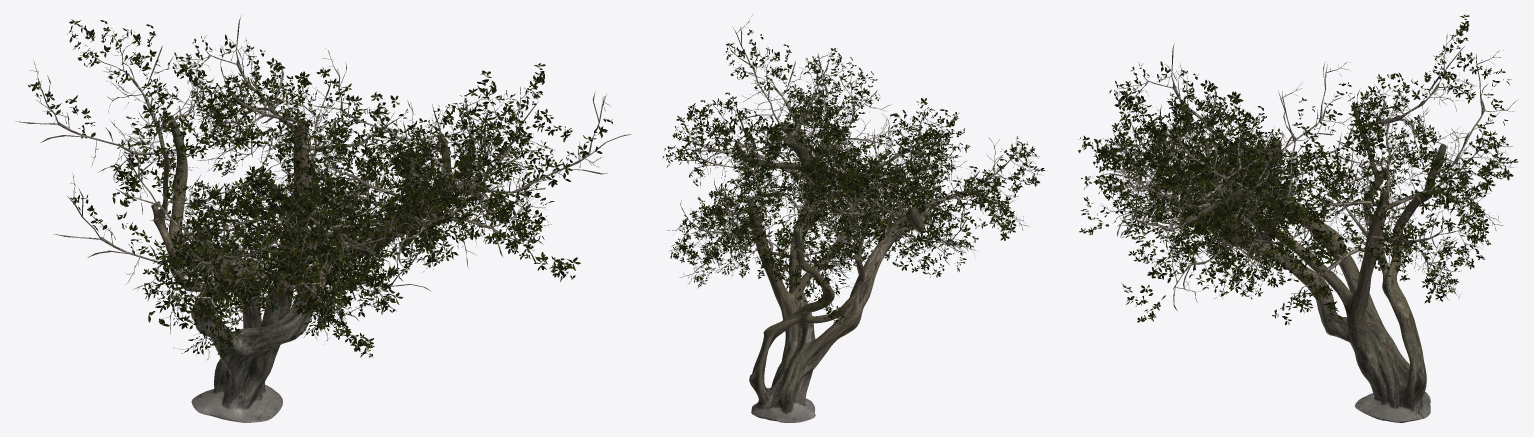
Rendered from island_tree_02_LOD1.glb.
The picture shows the model from 3 angles, left to right: view 1: azimuth 30°, elevation 25°; view 2: azimuth 150°, elevation 25°; view 3: azimuth 270°, elevation 25°; orthographic projection. The views are drawn at different scales.
Parts seen in each view (by area): view 1: island_tree_02_LOD1__lod0; view 2: island_tree_02_LOD1__lod0; view 3: island_tree_02_LOD1__lod0.
Boxes of the visible parts, x1,y1,x2,y2 form: island_tree_02_LOD1__lod0: (15,15,631,422); island_tree_02_LOD1__lod0: (662,14,1044,422); island_tree_02_LOD1__lod0: (1078,14,1518,422).
Size of what is drawn, in the model's own units: 4.19 by 3.41 by 4.08.
3 materials, 3 textured.
